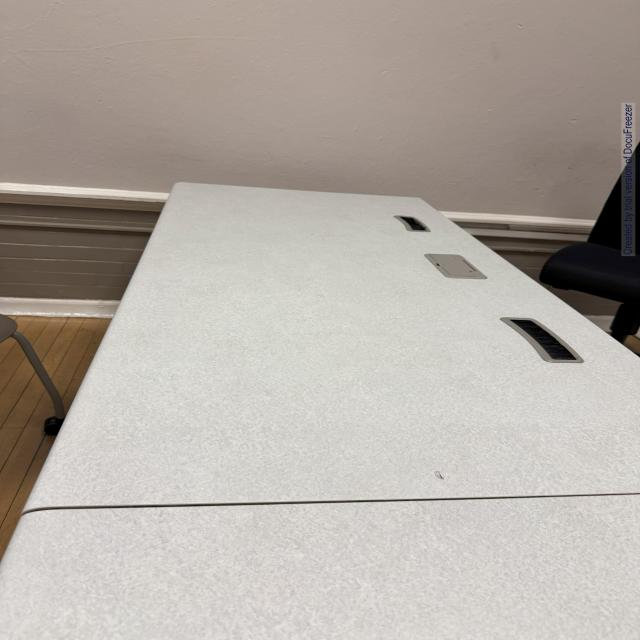Table: (6, 175, 640, 640)
